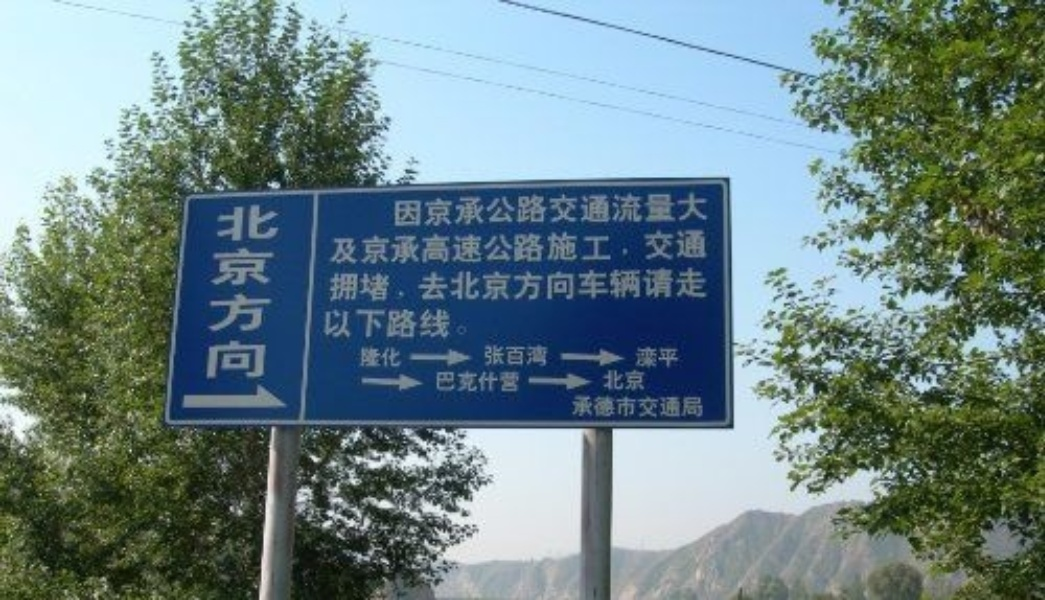text: (225, 201, 240, 383), (241, 201, 256, 383), (257, 201, 272, 383), (273, 201, 281, 383), (218, 201, 224, 383), (337, 228, 352, 270), (353, 228, 368, 270), (369, 228, 384, 270), (385, 228, 400, 270), (401, 228, 416, 270), (417, 228, 432, 270), (433, 228, 448, 270), (449, 228, 464, 270), (465, 228, 480, 270), (481, 228, 496, 270), (497, 228, 512, 270), (513, 228, 528, 270), (529, 228, 544, 270), (545, 228, 560, 270), (561, 228, 576, 270), (577, 228, 592, 270), (593, 228, 608, 270), (609, 228, 624, 270), (625, 228, 640, 270), (641, 228, 656, 270), (657, 228, 672, 270), (673, 228, 688, 270), (689, 228, 704, 270), (337, 266, 352, 304), (353, 266, 368, 304), (369, 266, 384, 304), (385, 266, 400, 304), (401, 266, 416, 304), (417, 266, 432, 304), (433, 266, 448, 304), (449, 266, 464, 304), (465, 266, 480, 304), (481, 266, 496, 304), (497, 266, 512, 304), (513, 266, 528, 304), (529, 266, 544, 304), (545, 266, 560, 304), (561, 266, 576, 304), (577, 266, 592, 304), (593, 266, 608, 304), (609, 266, 624, 304), (625, 266, 640, 304), (641, 266, 656, 304), (657, 266, 672, 304), (673, 266, 688, 304), (689, 266, 704, 304), (401, 193, 416, 230), (417, 193, 432, 230), (433, 193, 448, 230), (449, 193, 464, 230), (465, 193, 480, 230), (481, 193, 496, 230), (497, 193, 512, 230), (513, 193, 528, 230), (529, 193, 544, 230), (545, 193, 560, 230), (561, 193, 576, 230), (577, 193, 592, 230), (593, 193, 608, 230), (609, 193, 624, 230), (625, 193, 640, 230), (641, 193, 656, 230), (657, 193, 672, 230), (673, 193, 688, 230), (689, 193, 704, 230), (337, 308, 352, 341), (353, 308, 368, 341), (369, 308, 384, 341), (385, 308, 400, 341), (401, 308, 416, 341), (417, 308, 432, 341), (433, 308, 448, 341), (449, 308, 464, 341), (322, 308, 336, 341), (609, 368, 624, 394), (625, 368, 640, 394), (327, 228, 336, 270), (689, 396, 705, 419), (433, 371, 448, 394), (449, 371, 464, 394), (465, 371, 480, 394), (481, 371, 496, 394), (497, 371, 512, 394), (577, 396, 592, 419), (593, 396, 608, 419), (609, 396, 624, 419), (625, 396, 640, 419), (641, 396, 656, 419), (657, 396, 672, 419), (673, 396, 688, 419), (497, 345, 512, 368), (513, 345, 528, 368), (529, 345, 544, 368), (641, 348, 656, 368), (657, 348, 672, 368), (369, 348, 384, 368), (385, 348, 400, 368), (483, 345, 496, 368), (329, 266, 336, 304), (358, 348, 368, 368), (513, 371, 521, 394), (641, 368, 648, 394), (602, 368, 608, 394), (396, 193, 400, 230), (705, 193, 709, 230), (465, 308, 469, 341), (571, 396, 576, 419), (673, 348, 678, 368), (705, 228, 707, 270), (636, 348, 640, 368), (705, 266, 707, 304), (545, 345, 548, 368), (401, 348, 404, 368)
